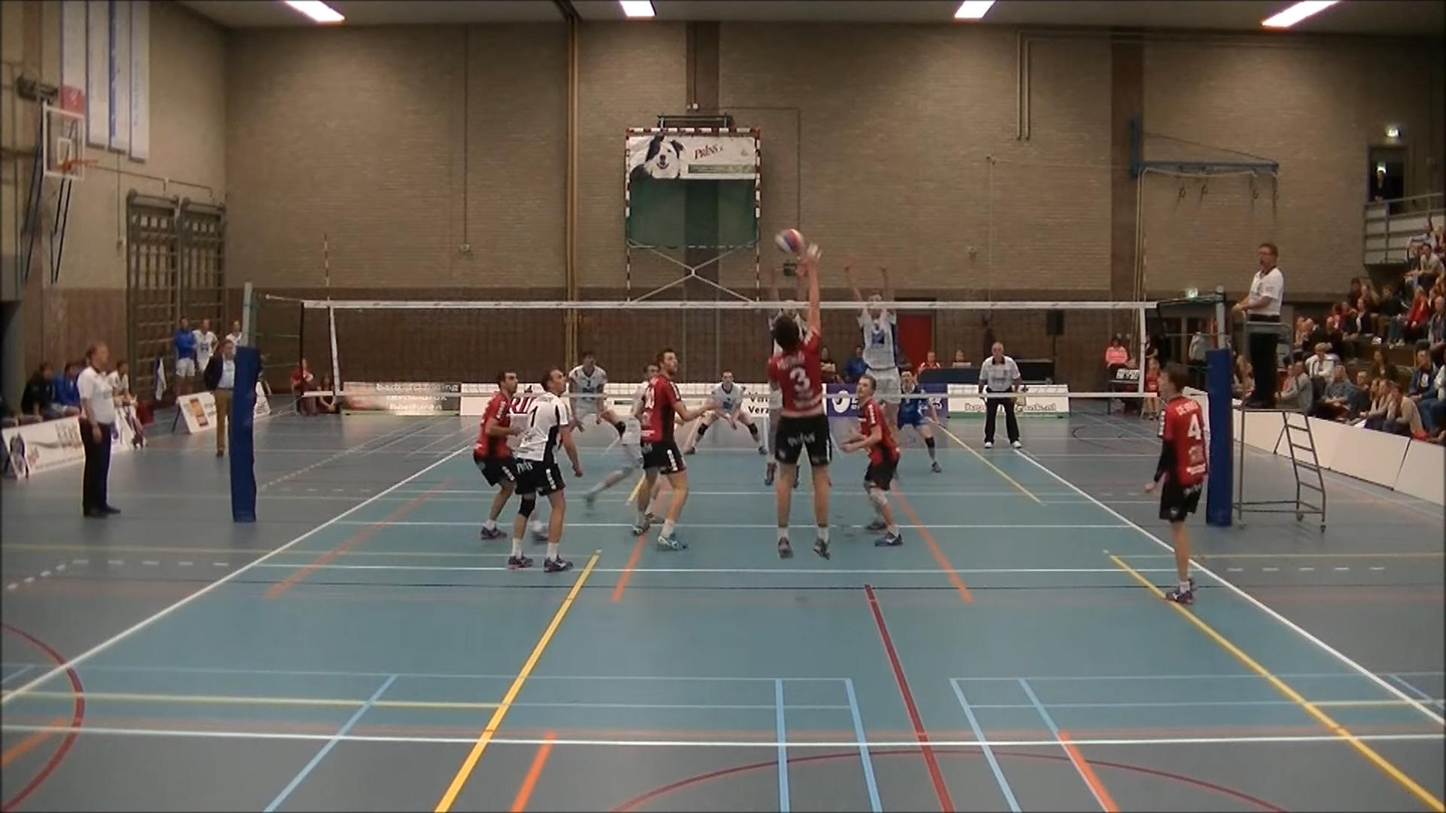attacco: (765, 240, 835, 562)
muro: (842, 251, 907, 449), (757, 256, 820, 358)
